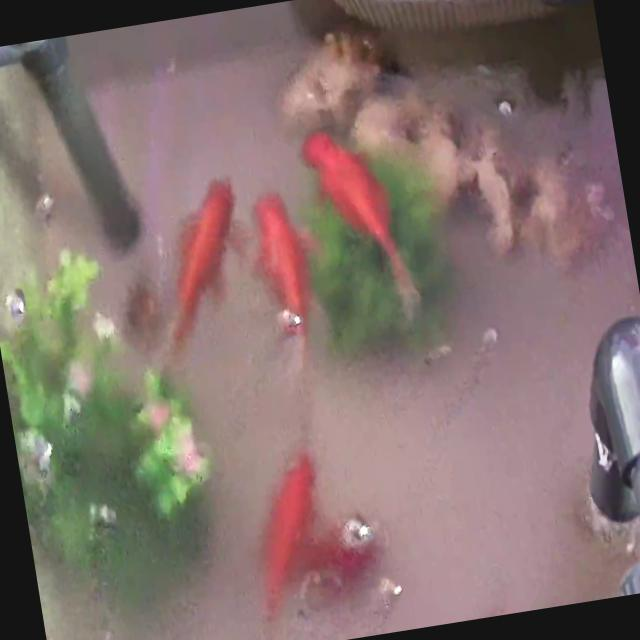fish: (301, 118, 418, 328), (140, 173, 260, 365), (241, 448, 340, 622), (242, 184, 325, 383), (282, 517, 388, 607)
